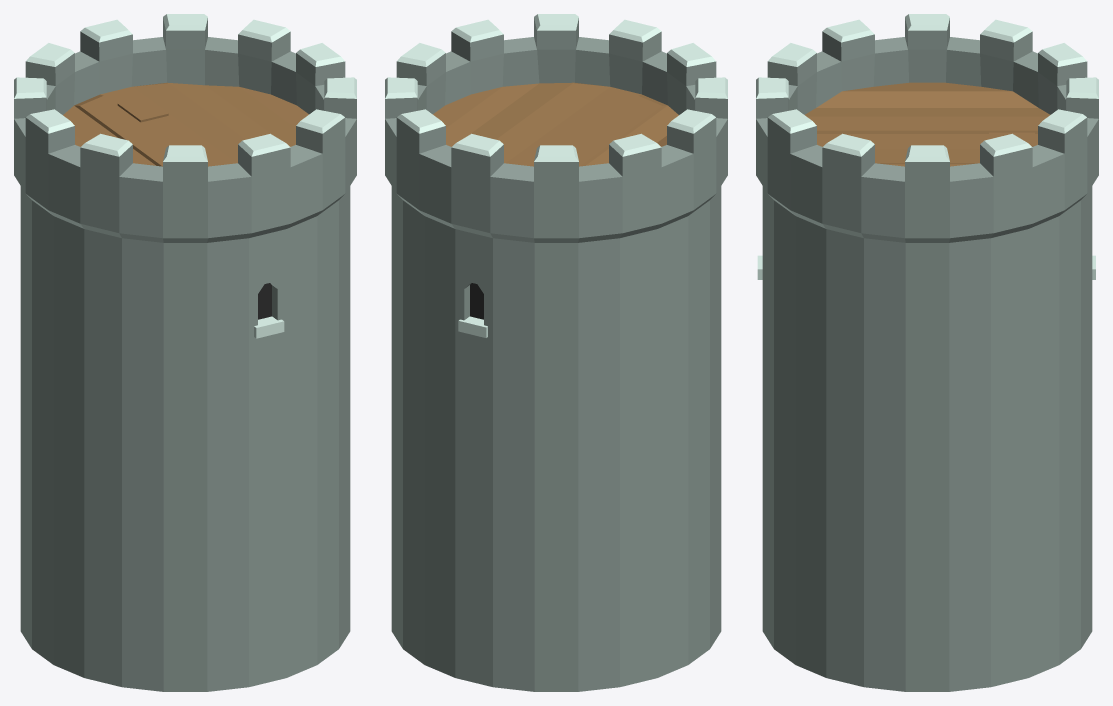
File: castle-tower01.fbx
3 views of the same model, side by side, from view 1: azimuth 30°, elevation 25°; view 2: azimuth 150°, elevation 25°; view 3: azimuth 270°, elevation 25° (orthographic).
Parts seen in each view (by area): view 1: castle-tower_01; view 2: castle-tower_01; view 3: castle-tower_01.
Boxes of the visible parts, box(x1,y1,x2,y2) form: castle-tower_01: box(14, 14, 356, 691); castle-tower_01: box(385, 14, 727, 691); castle-tower_01: box(756, 14, 1098, 691).
Size of the model in its own units: 7.79 by 7.79 by 13.47.
